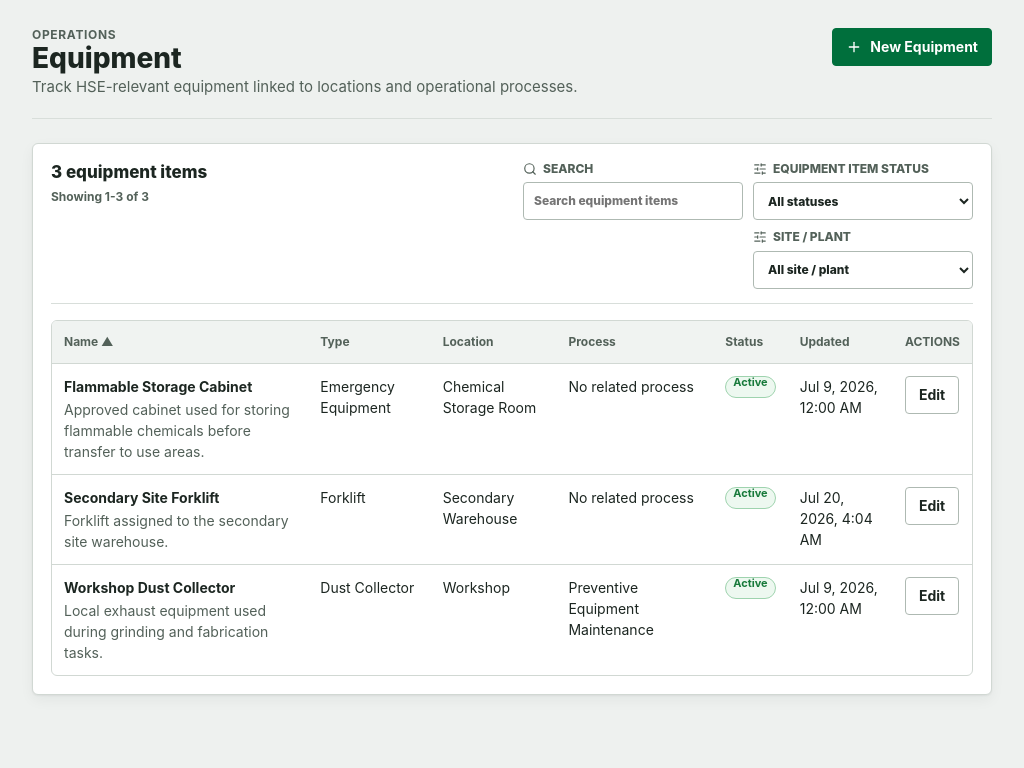
Test case: RegisterCrudPage › filters register rows by site plant hierarchy
This screenshot has width=1024, height=768.
Expected: the text "Workshop Dust Collector" is shown, [64,579,235,596]
Expected: the text "Secondary Site Forklift" is shown, [64,489,220,506]
Select "Secondary Site" in the dropdown labelled "Site / Plant" at (863, 270), box [753,251,973,289]
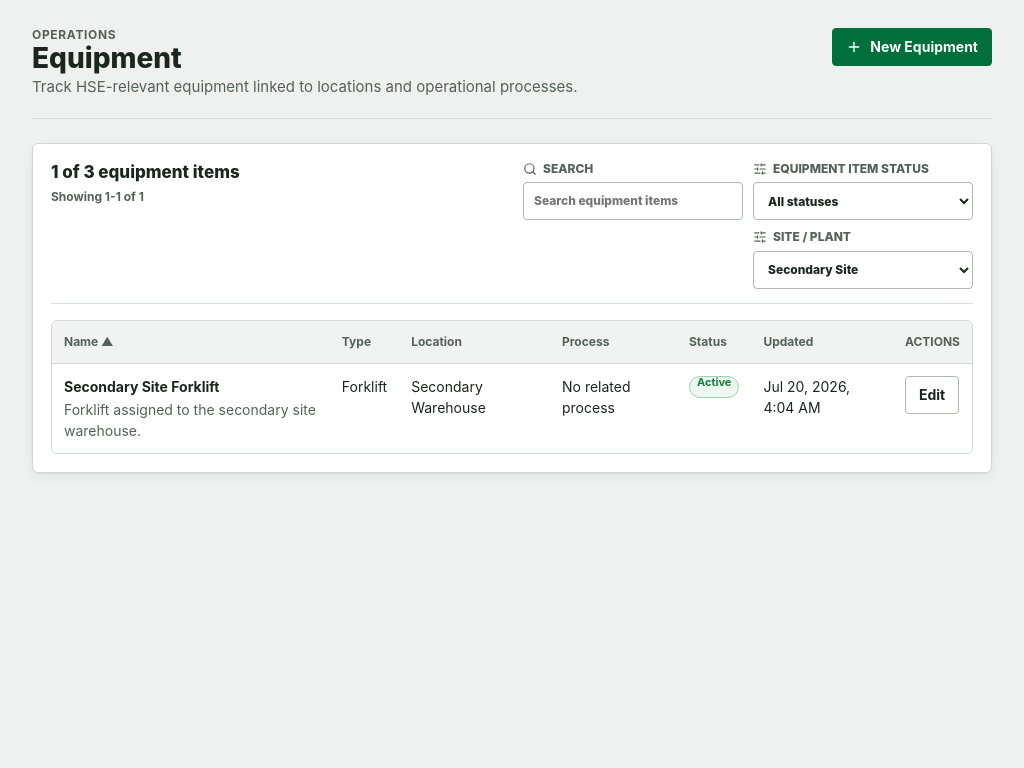
Expected: the text "Secondary Site Forklift" is shown, [64,378,220,395]
Now the text "Workshop Dust Collector" is gone
